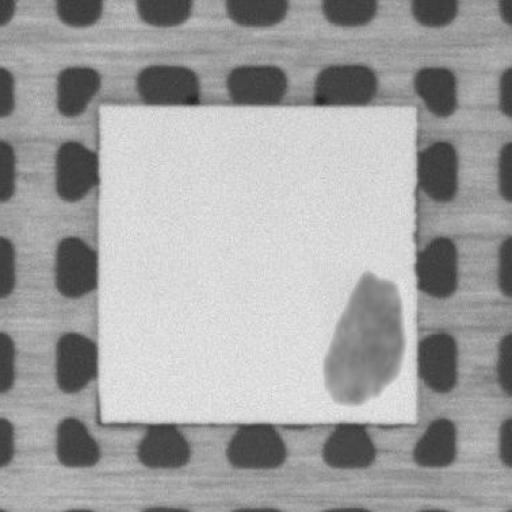DIE_INK: (321, 263, 406, 404)
